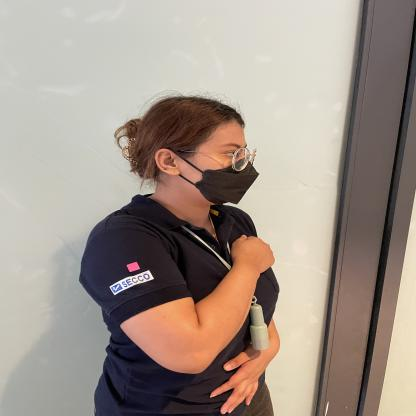Sadness: (94, 227, 293, 380)
